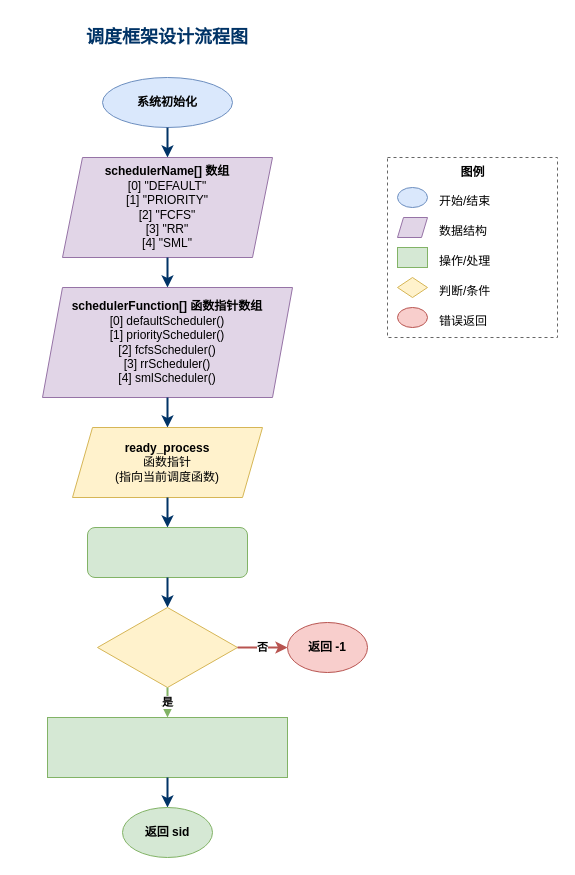
Image size: 575x875. Some labels were removed from this diagram. Each missing label, with the centre of its shape:
"setscheduler(sid) 系统调用" goes at (167,552).
"sid 有效? (0 ≤ sid ≤ 4)" goes at (167,647).
"更新调度函数指针 ready_process = schedulerFunction[sid] schedSelected = sid" goes at (167,747).
